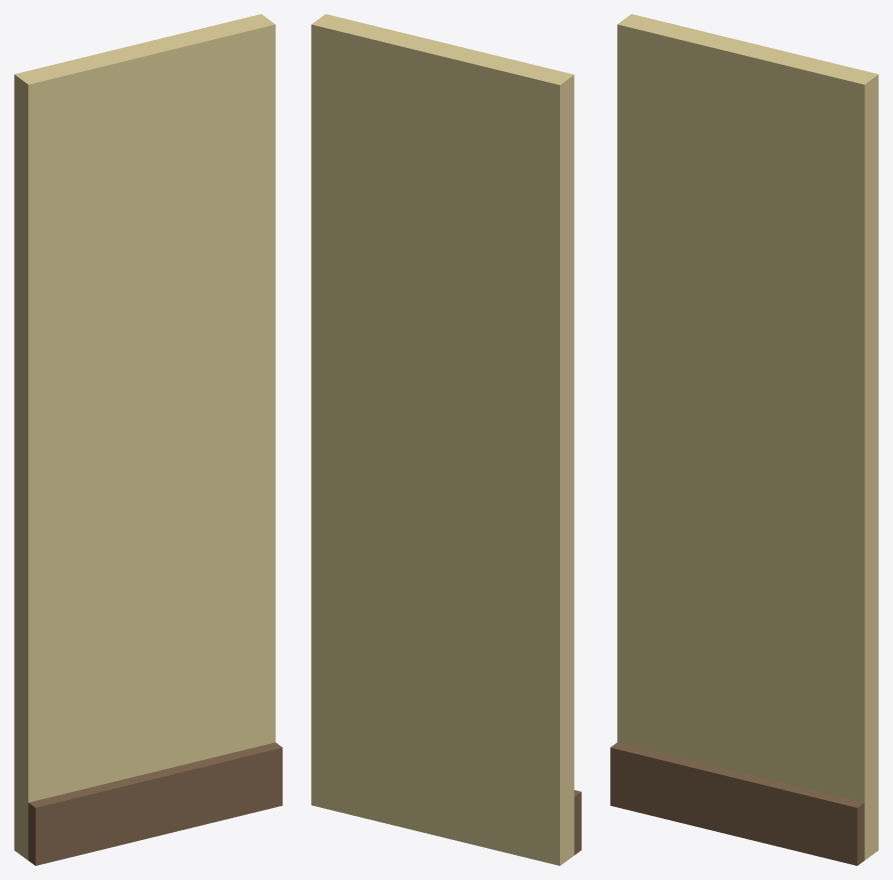
The model's file is Mesh_WallBaseboard_I1.fbx.
3 renders of one model, left to right at view 1: azimuth 30°, elevation 25°; view 2: azimuth 150°, elevation 25°; view 3: azimuth 330°, elevation 25°, orthographic.
Parts seen in each view (by area): view 1: Mesh_WallBaseboard_I1; view 2: Mesh_WallBaseboard_I1; view 3: Mesh_WallBaseboard_I1.
Part boxes in pixels (x1,y1,x2,y2): Mesh_WallBaseboard_I1: (14,14,282,865); Mesh_WallBaseboard_I1: (311,14,581,865); Mesh_WallBaseboard_I1: (610,14,878,865).
Bounding box in the file's own units: 1 × 3 × 0.15.
